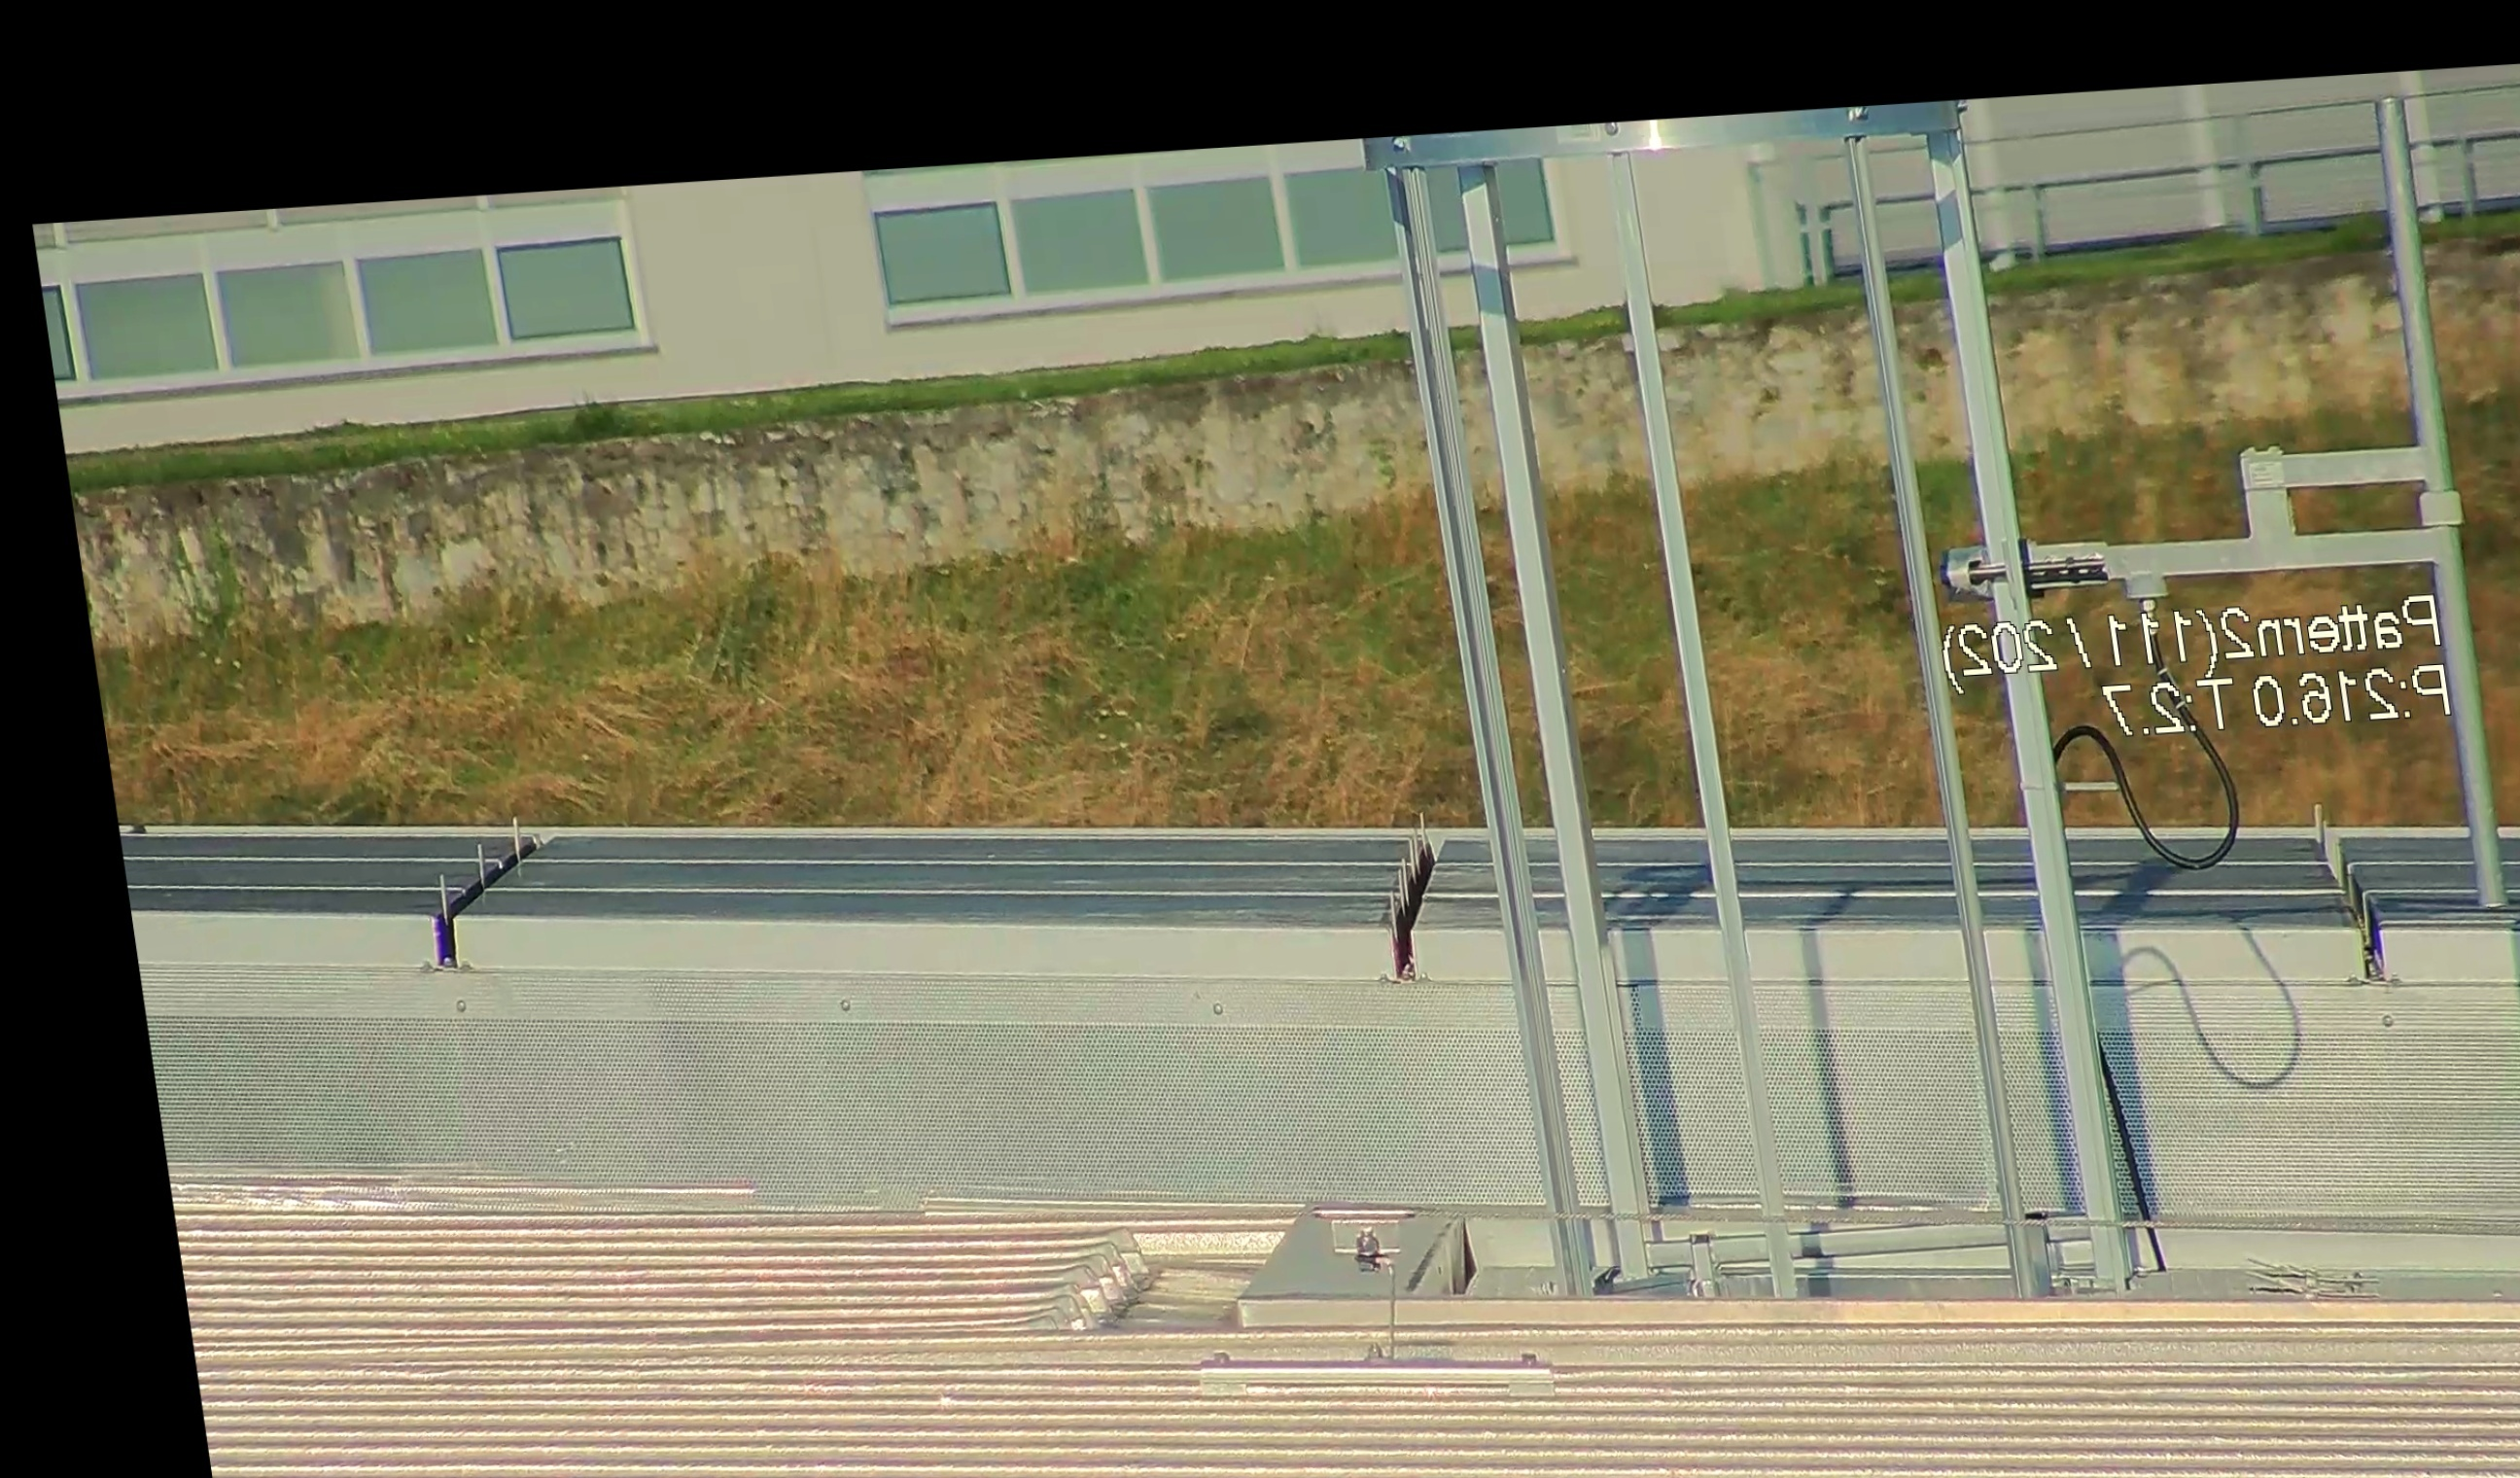Other: (1354, 802, 1477, 987)
